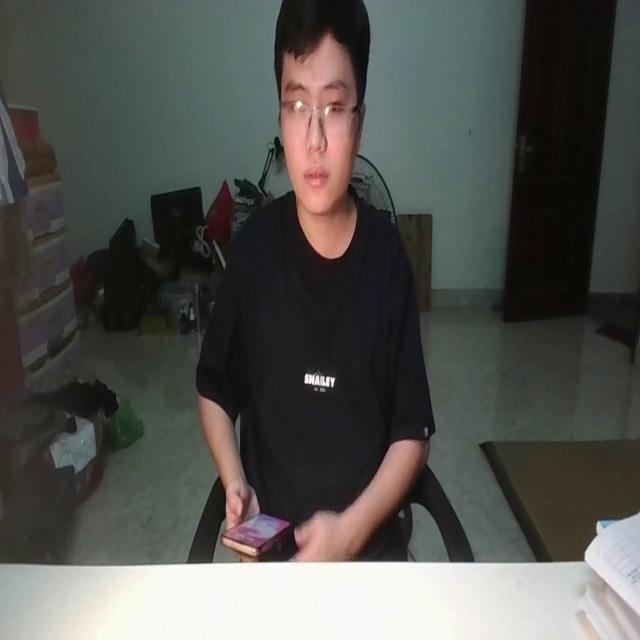phone: (218, 510, 292, 555)
student: (193, 0, 434, 562)
